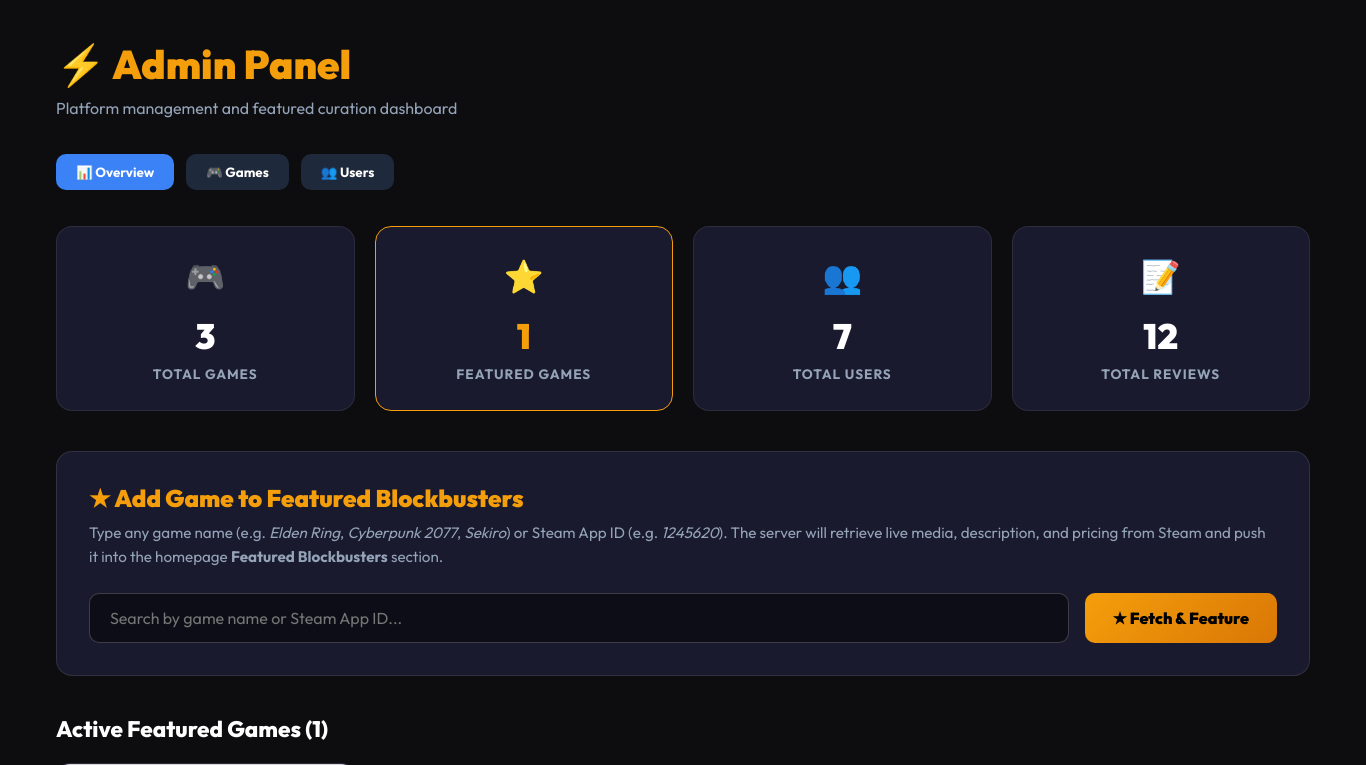
it: AdminPanel › feature-steam-game form (handleFeatureSubmit) › shows the server success message on success
Type "Elden Ring" into the field labelled "Search by game name or Steam App ID..." at (579, 618), box [89, 593, 1069, 643]
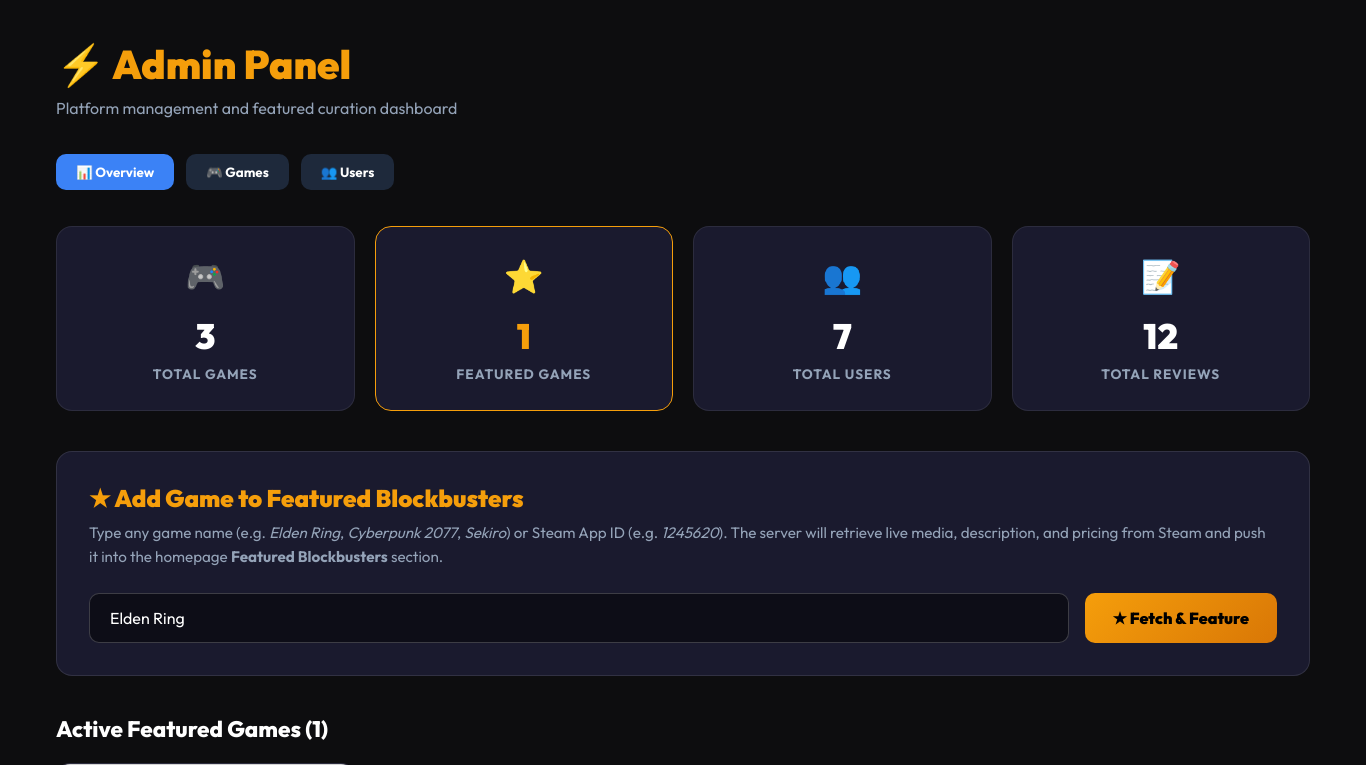
Click the button "★ Fetch & Feature" at (1181, 618), box [1085, 593, 1277, 643]
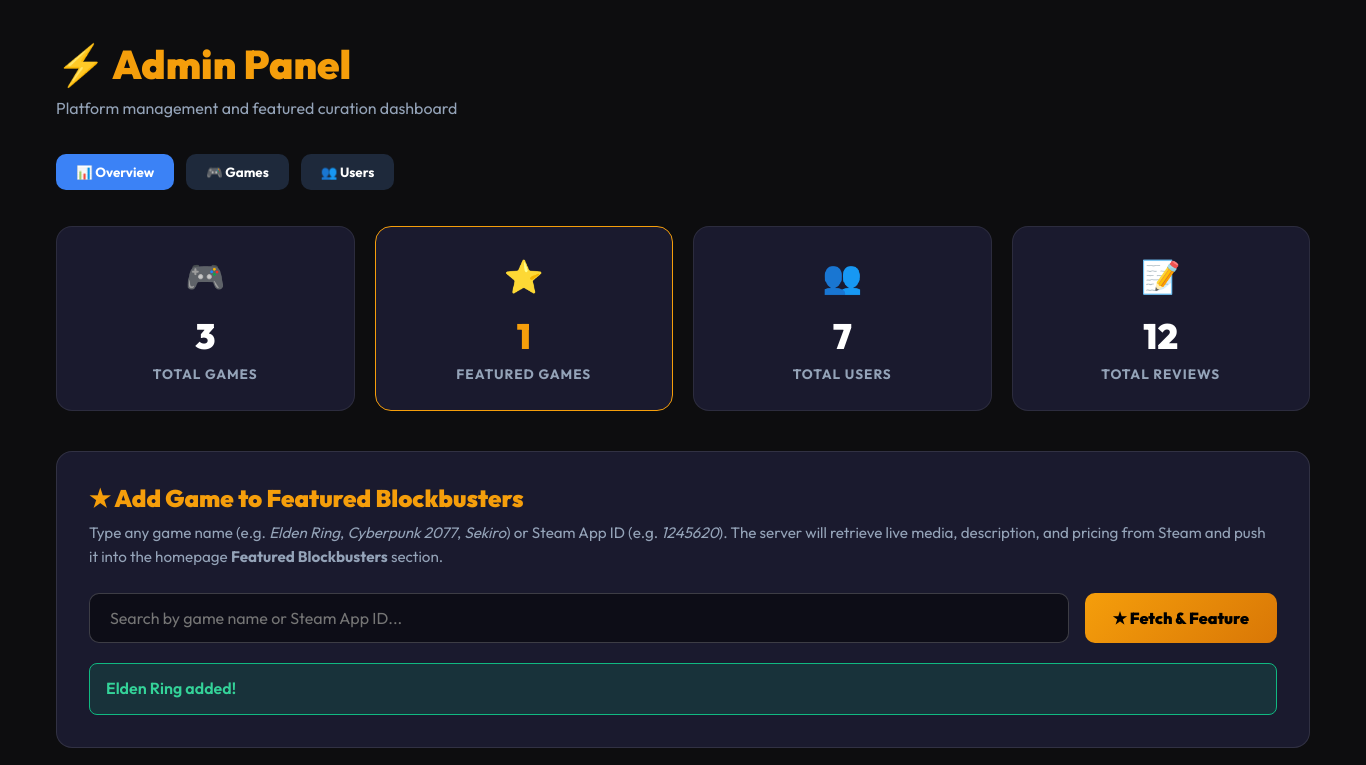
Result: the text "Elden Ring added!" is shown at [89, 663, 1277, 715]
Result: the field labelled "Search by game name or Steam App ID..." is empty at [89, 593, 1069, 643]
